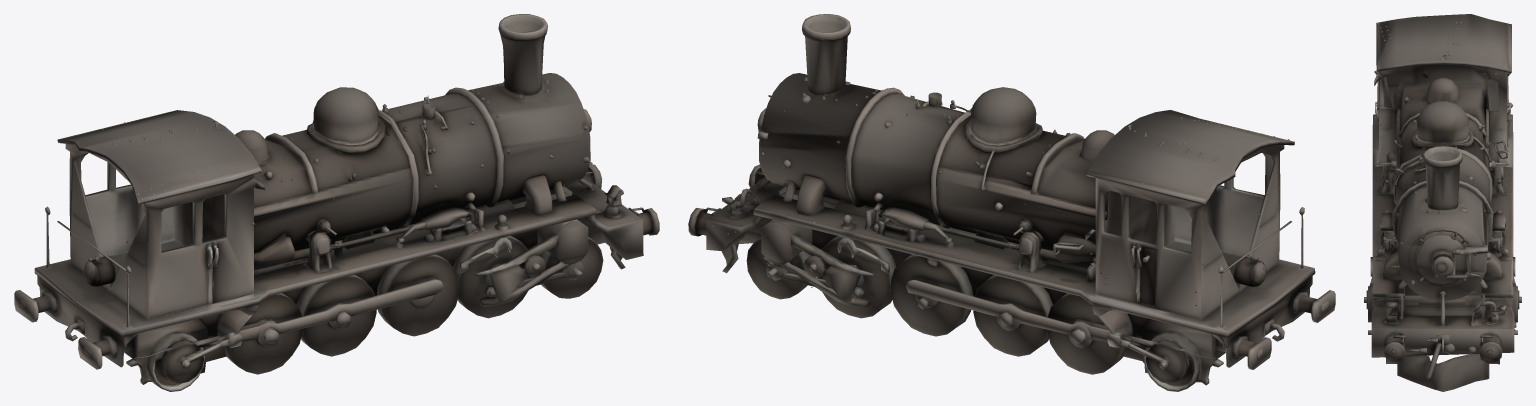
File: locomotive.glb
3 renders of one model, left to right at view 1: azimuth 30°, elevation 25°; view 2: azimuth 150°, elevation 25°; view 3: azimuth 270°, elevation 25°, orthographic. The views are drawn at different scales.
Parts seen in each view (by area): view 1: locomotive_LOD0; view 2: locomotive_LOD0; view 3: locomotive_LOD0.
Part boxes in pixels (<box>): locomotive_LOD0: <box>14,14,659,391</box>; locomotive_LOD0: <box>688,14,1335,391</box>; locomotive_LOD0: <box>1364,14,1521,391</box>.
Size of what is drawn, in the model's own units: 10.4 by 4.39 by 3.1.
Materials: 1 (1 with a texture image).
